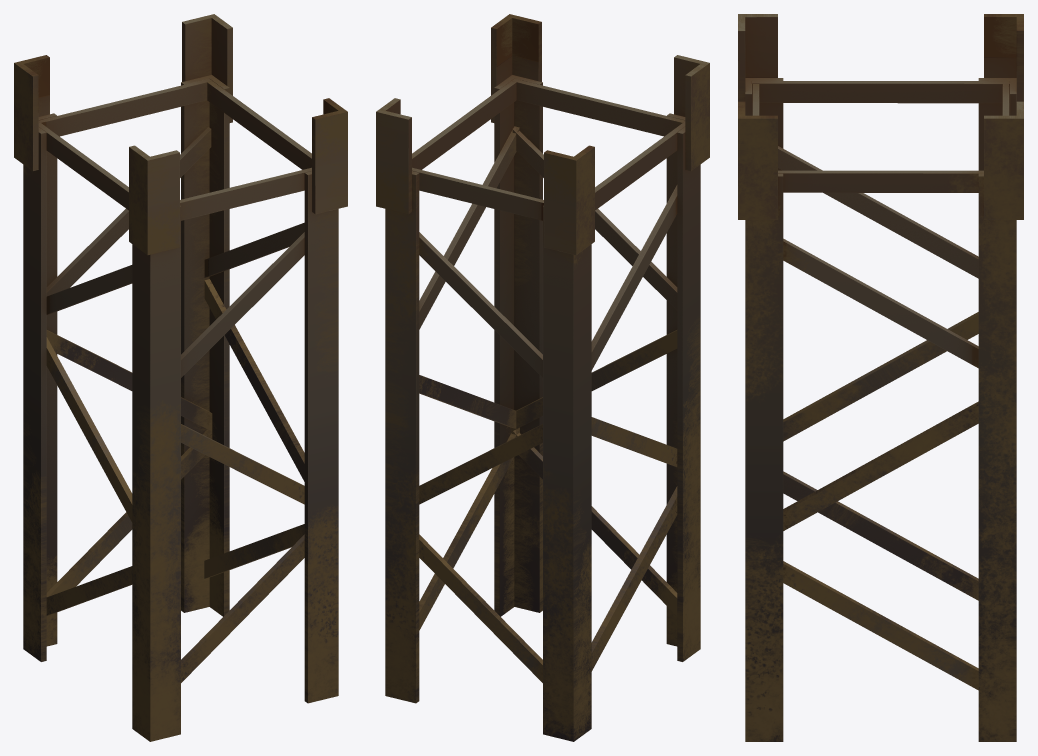
The model's file is MetalPillar1.gltf.
The picture shows the model from 3 angles, left to right: view 1: azimuth 30°, elevation 25°; view 2: azimuth 150°, elevation 25°; view 3: azimuth 270°, elevation 25°; orthographic projection. The views are drawn at different scales.
Visible parts, largest first — view 1: MetalPillar1; view 2: MetalPillar1; view 3: MetalPillar1.
Part boxes in pixels (x1,y1,x2,y2): MetalPillar1: [14, 14, 347, 741]; MetalPillar1: [376, 14, 709, 741]; MetalPillar1: [738, 14, 1023, 741].
Bounding box in the file's own units: 0.7935 × 2.22 × 0.9167.
